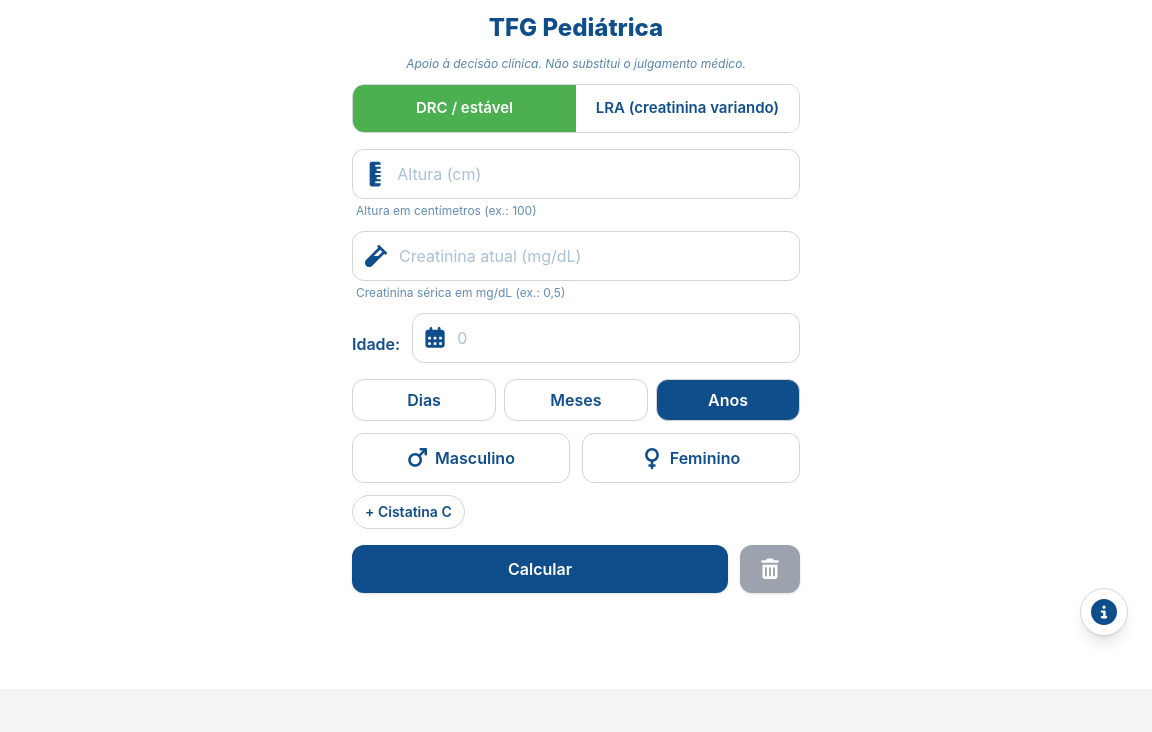
Scenario: TFG Pediátrica (interface) › sexo é exigido a partir de 1 ano e o campo é marcado
This screenshot has width=1152, height=732.
Type "140" into the field with placeholder "Altura (cm)" at (592, 174), box [397,150,787,198]
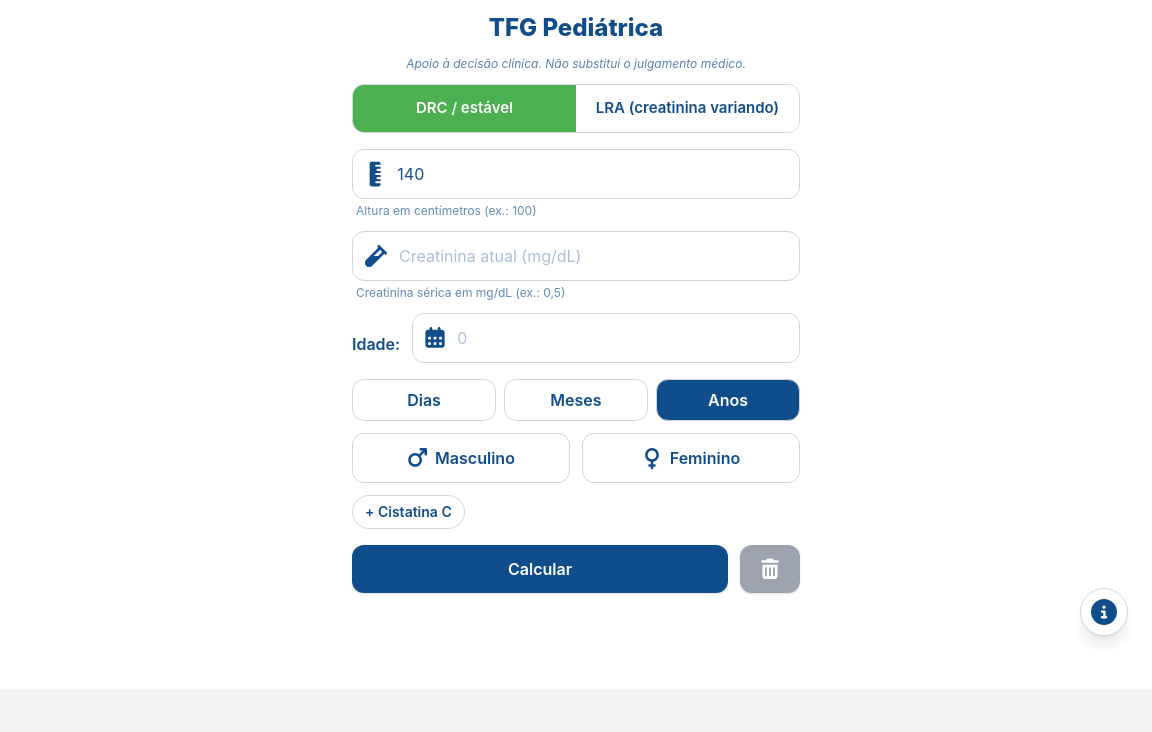
Type "0.6" into the field with placeholder "Creatinina atual (mg/dL)" at (593, 256), box [399,232,787,280]
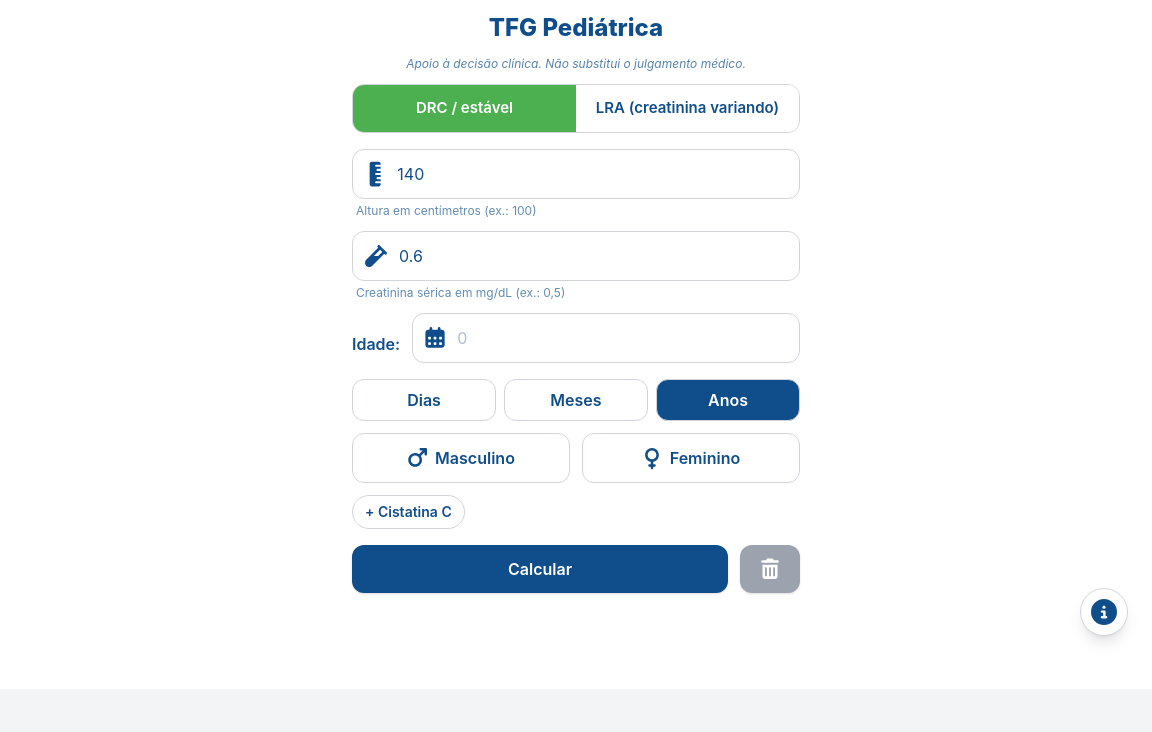
Type "10" into the field named "Idade" at (622, 338), box [457,314,787,362]
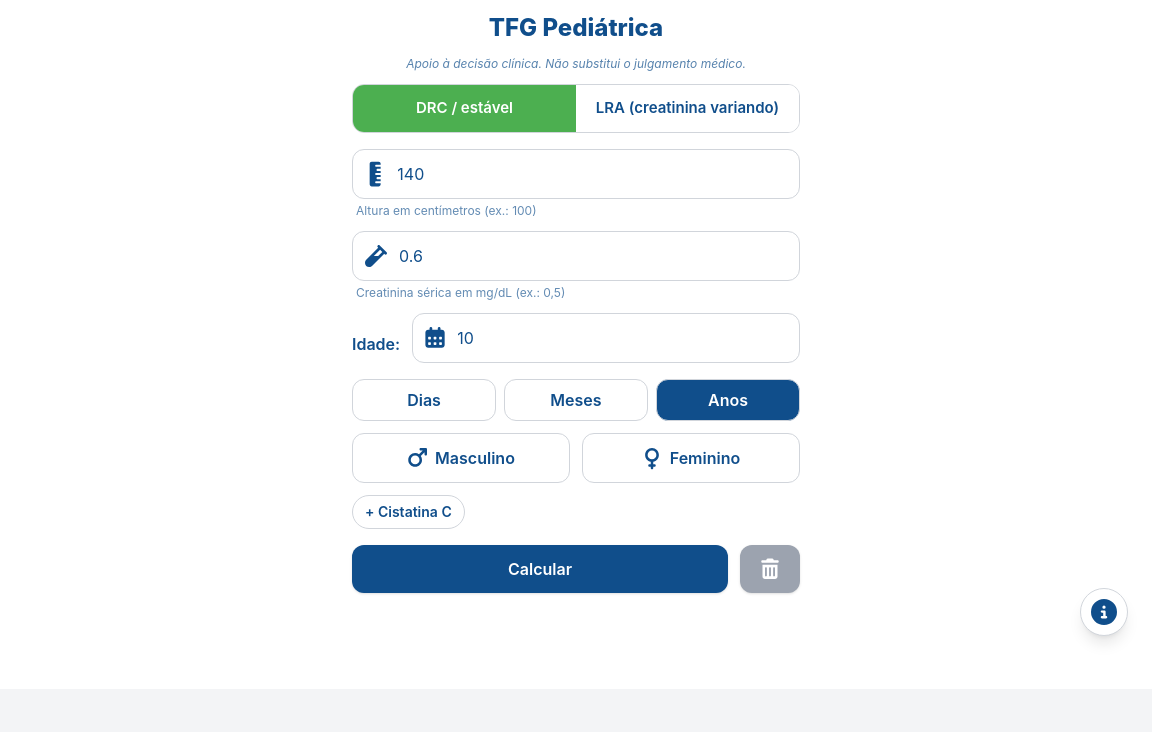
Click the button "Calcular" at (540, 568), box [352,544,728,592]
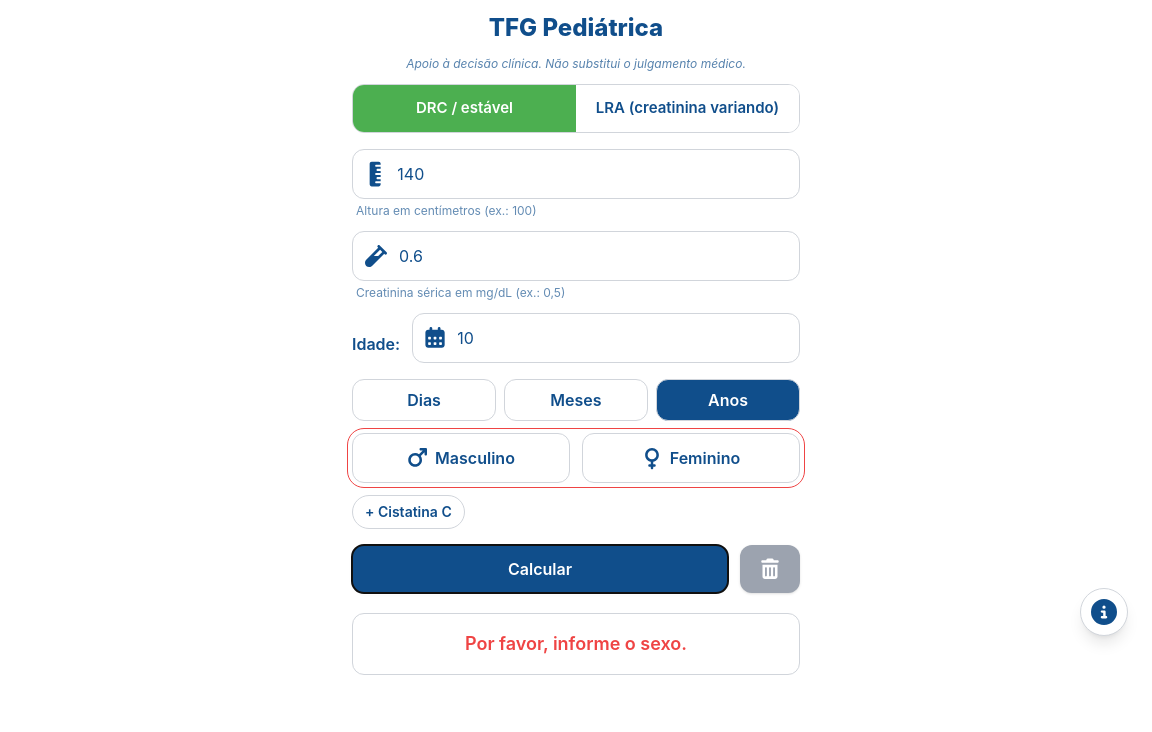
Check: the message shows "o sexo", box [465,632,687,654]
